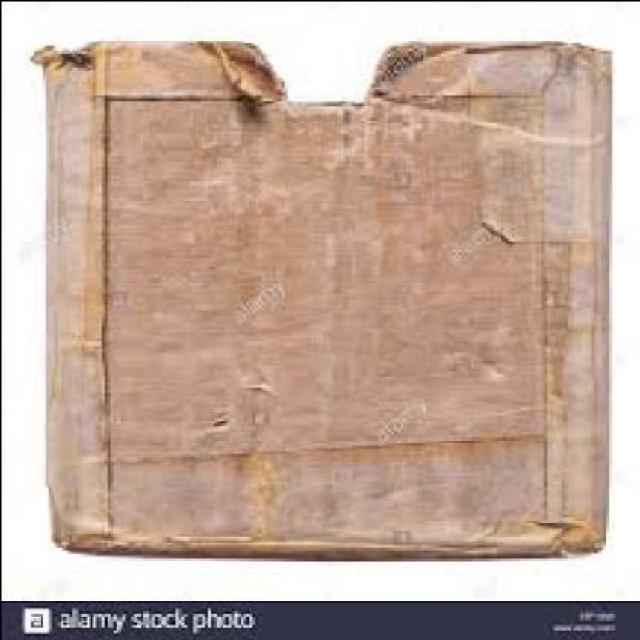CARDBOARD: (23, 31, 608, 557)
